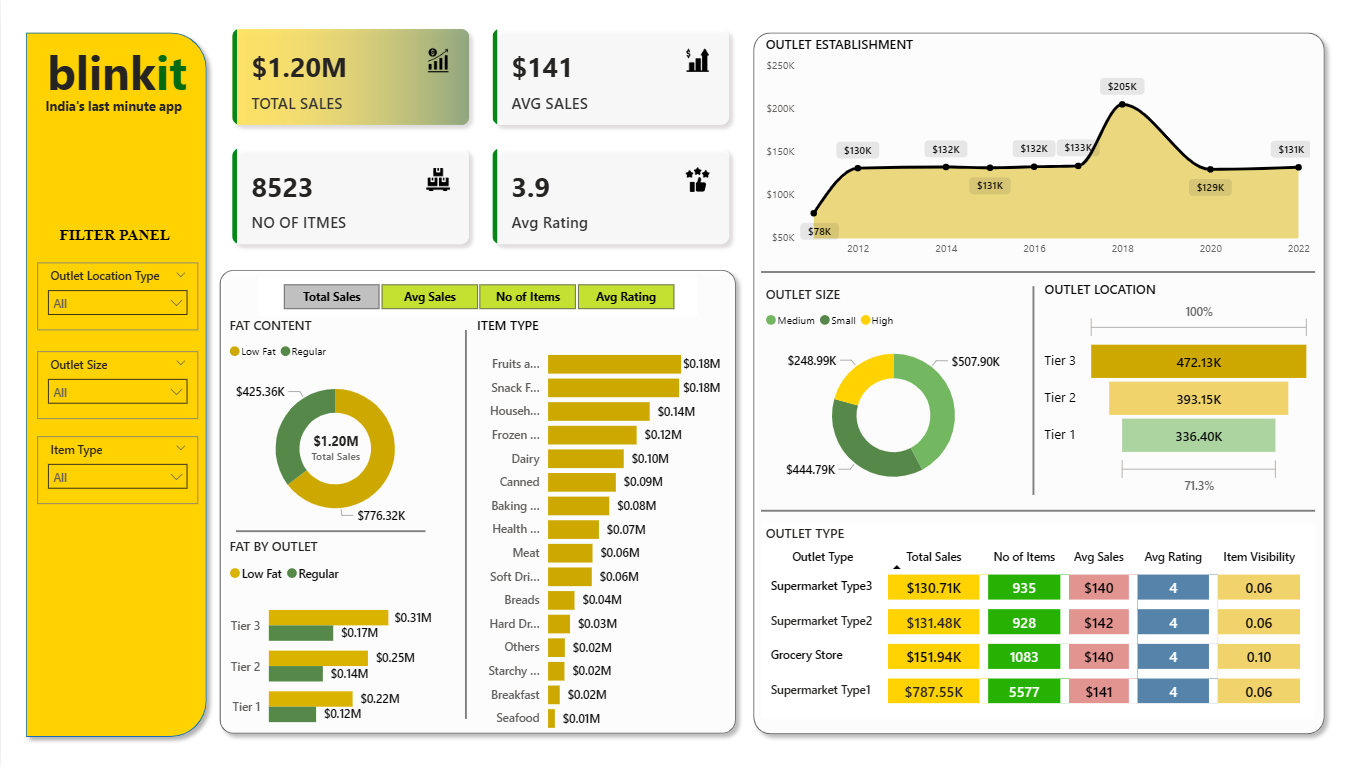

The dashboard page shown, as its layout file describes it:
{"tool":"powerbi","page":{"name":"Page 1","canvas":[1400,800],"ordinal":0},"visuals":[{"type":"shape","box":[17.1,24.3,205.7,750],"z":0},{"type":"textbox","box":[35.7,35.7,168.6,74.3],"z":1000},{"type":"textbox","box":[35.7,95.7,161.4,30],"z":2000},{"type":"cardVisual","fields":{"Data":["BlinkIT Grocery Data.Total Sales","BlinkIT Grocery Data.Avg Sales","BlinkIT Grocery Data.No of Items","BlinkIT Grocery Data.Avg Rating"]},"box":[222.9,12.9,550,258.6],"z":3000},{"type":"shape","box":[218.6,271.4,554.3,500],"z":4000},{"type":"donutChart","title":"FAT CONTENT","fields":{"Y":["BlinkIT Grocery Data.Total Sales"],"Category":["BlinkIT Grocery Data.Item Fat Content"]},"box":[232.9,328.6,230,230],"z":5000},{"type":"slicer","fields":{"Values":["Matrices.Matrices"]},"box":[267.1,288.6,455.7,40],"z":6000},{"type":"cardVisual","fields":{"Data":["BlinkIT Grocery Data.Total Sales"]},"box":[304.3,432.9,88.6,55.7],"z":7000},{"type":"clusteredBarChart","title":"FAT BY OUTLET","fields":{"Y":["BlinkIT Grocery Data.Total Sales"],"Category":["BlinkIT Grocery Data.Outlet Location Type"],"Series":["BlinkIT Grocery Data.Item Fat Content"]},"box":[232.9,558.6,220,215.7],"z":8000},{"type":"shape","box":[244.3,545.7,197.1,12.9],"z":9000},{"type":"shape","box":[477.1,342.9,12.9,404.3],"z":10000},{"type":"barChart","title":"ITEM TYPE","fields":{"Y":["BlinkIT Grocery Data.Total Sales"],"Category":["BlinkIT Grocery Data.Item Type"]},"box":[490,328.6,262.9,442.9],"z":11000},{"type":"shape","box":[772.9,24.3,611.4,747.1],"z":12000},{"type":"lineChart","title":"OUTLET ESTABLISHMENT","fields":{"Y":["BlinkIT Grocery Data.Total Sales"],"Category":["BlinkIT Grocery Data.Outlet Establishment Year"]},"box":[790,35.7,575.7,238.6],"z":13000},{"type":"shape","box":[790,274.3,575.7,17.1],"z":14000},{"type":"donutChart","title":"OUTLET SIZE","fields":{"Y":["BlinkIT Grocery Data.Total Sales"],"Category":["BlinkIT Grocery Data.Outlet Size"]},"box":[790,295.7,275.7,225.7],"z":15000},{"type":"shape","box":[1065.7,297.1,12.9,217.1],"z":16000},{"type":"funnel","title":"OUTLET LOCATION","fields":{"Y":["Sum(BlinkIT Grocery Data.Sales)"],"Category":["BlinkIT Grocery Data.Outlet Location Type"]},"box":[1078.6,291.4,287.1,228.6],"z":17000},{"type":"shape","box":[790,521.4,575.7,17.1],"z":18000},{"type":"pivotTable","title":"OUTLET TYPE","fields":{"Rows":["BlinkIT Grocery Data.Outlet Type"],"Values":["BlinkIT Grocery Data.Total Sales","BlinkIT Grocery Data.No of Items","BlinkIT Grocery Data.Avg Sales","BlinkIT Grocery Data.Avg Rating","Avg(BlinkIT Grocery Data.Item Visibility)"]},"box":[790,544.3,575.7,202.9],"z":19000},{"type":"slicer","fields":{"Values":["BlinkIT Grocery Data.Outlet Location Type"]},"box":[37.1,272.9,167.1,70],"z":20000},{"type":"slicer","fields":{"Values":["BlinkIT Grocery Data.Outlet Size"]},"box":[37.1,364.3,167.1,70],"z":21000},{"type":"slicer","fields":{"Values":["BlinkIT Grocery Data.Item Type"]},"box":[37.1,452.9,167.1,70],"z":22000},{"type":"textbox","box":[55.7,230,131.4,30],"z":22001}]}

Visuals, with their boxes in screenshot pixels (x1, y1, x2, y2), scaled from the page's 1400x800 canvas onto the 1348x767 screenshot:
shape: <box>16,23,215,742</box>
textbox: <box>34,34,197,105</box>
textbox: <box>34,92,190,121</box>
cardVisual - BlinkIT Grocery Data.Total Sales x BlinkIT Grocery Data.Avg Sales: <box>215,12,744,260</box>
shape: <box>210,260,744,740</box>
"FAT CONTENT" donutChart: <box>224,315,446,536</box>
slicer - Matrices.Matrices: <box>257,277,696,315</box>
cardVisual - BlinkIT Grocery Data.Total Sales: <box>293,415,378,468</box>
"FAT BY OUTLET" clusteredBarChart: <box>224,536,436,742</box>
shape: <box>235,523,425,536</box>
shape: <box>459,329,472,716</box>
"ITEM TYPE" barChart: <box>472,315,725,740</box>
shape: <box>744,23,1333,740</box>
"OUTLET ESTABLISHMENT" lineChart: <box>761,34,1315,263</box>
shape: <box>761,263,1315,279</box>
"OUTLET SIZE" donutChart: <box>761,284,1026,500</box>
shape: <box>1026,285,1039,493</box>
"OUTLET LOCATION" funnel: <box>1039,279,1315,499</box>
shape: <box>761,500,1315,516</box>
"OUTLET TYPE" pivotTable: <box>761,522,1315,716</box>
slicer - BlinkIT Grocery Data.Outlet Location Type: <box>36,262,197,329</box>
slicer - BlinkIT Grocery Data.Outlet Size: <box>36,349,197,416</box>
slicer - BlinkIT Grocery Data.Item Type: <box>36,434,197,501</box>
textbox: <box>54,221,180,249</box>
